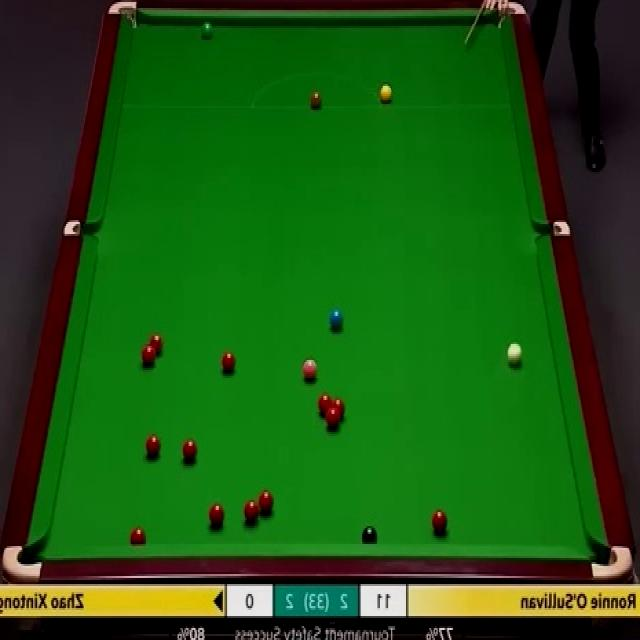black-ball: (360, 525, 378, 546)
blue-ball: (328, 308, 344, 329)
brown-ball: (310, 88, 322, 108)
green-ball: (201, 22, 214, 40)
pink-ball: (301, 359, 318, 384)
red-ball: (139, 341, 158, 367), (182, 438, 199, 466), (243, 497, 259, 526), (432, 508, 449, 535), (208, 504, 225, 530), (220, 349, 236, 375), (258, 490, 274, 516), (144, 434, 160, 458), (332, 398, 346, 422), (318, 393, 331, 418), (129, 526, 147, 543), (324, 411, 340, 430), (150, 332, 163, 354)
white-ball: (506, 342, 524, 368)
yellow-ball: (381, 86, 393, 102)
